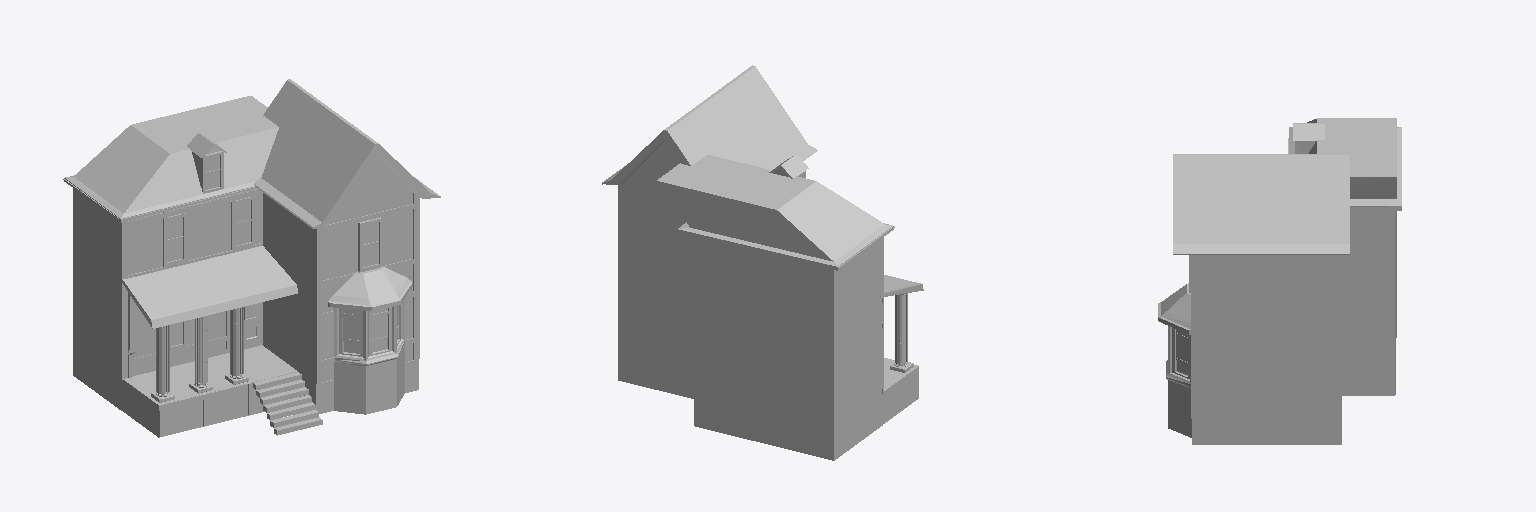
The model's file is casav2.obj.
3 renders of one model, left to right at view 1: azimuth 30°, elevation 25°; view 2: azimuth 150°, elevation 25°; view 3: azimuth 270°, elevation 25°, orthographic.
Parts seen in each view (by area): view 1: pCube1, pCube2, pCube66, pCube47, pCube5, pCube58, pCube6, pCube87, pCube59, polySurface11, pCube28, polySurface21 (+8 smaller); view 2: pCube1, pCube2, pCube66, pCube47, pCube6, polySurface19, pCube5; view 3: pCube2, pCube47, pCube1, pCube66, pCube58, pCube59, pCube68.
Part boxes in pixels (bbox=[...]): pCube1: bbox=[73, 188, 262, 410]; pCube2: bbox=[263, 155, 418, 413]; pCube66: bbox=[63, 96, 278, 222]; pCube47: bbox=[254, 79, 440, 228]; pCube5: bbox=[122, 246, 297, 328]; pCube58: bbox=[334, 299, 404, 414]; pCube6: bbox=[122, 345, 297, 437]; pCube87: bbox=[253, 372, 322, 435]; pCube59: bbox=[328, 267, 412, 310]; polySurface11: bbox=[358, 217, 381, 271]; pCube28: bbox=[413, 193, 419, 360]; polySurface21: bbox=[225, 307, 248, 384]; pCube1: bbox=[694, 238, 882, 460]; pCube2: bbox=[618, 141, 693, 398]; pCube66: bbox=[657, 154, 894, 270]; pCube47: bbox=[602, 65, 817, 184]; pCube6: bbox=[883, 358, 918, 423]; polySurface19: bbox=[890, 293, 913, 372]; pCube5: bbox=[883, 275, 923, 296]; pCube2: bbox=[1192, 255, 1341, 444]; pCube47: bbox=[1173, 154, 1349, 254]; pCube1: bbox=[1342, 210, 1396, 395]; pCube66: bbox=[1288, 118, 1401, 210]; pCube58: bbox=[1166, 326, 1191, 437]; pCube59: bbox=[1158, 283, 1190, 334]; pCube68: bbox=[1293, 123, 1324, 140].
Bounding box in the file's own units: 17.26 × 16.85 × 13.82.